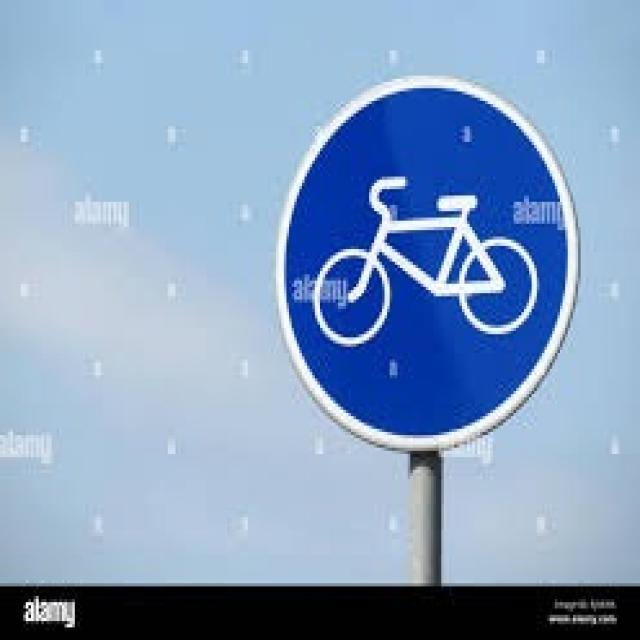bicycle: (260, 65, 599, 462)
